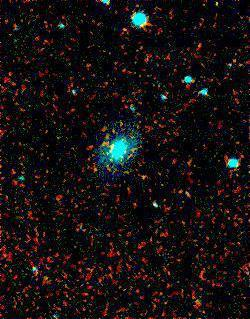star: (79, 156, 109, 186)
